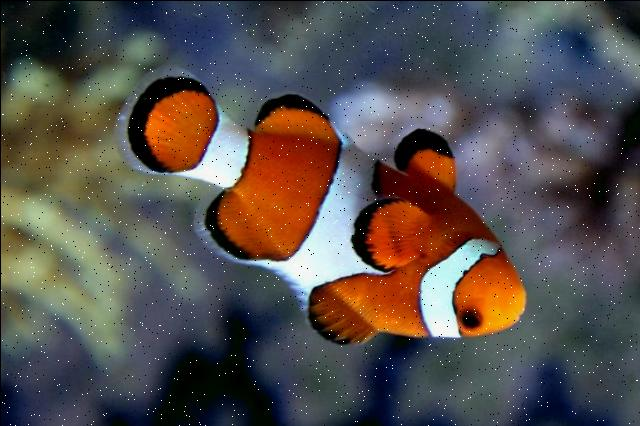Mulut: (494, 280, 538, 342)
Sirip Anal: (242, 88, 354, 162)
Sirip Dada: (344, 191, 434, 279)
Sirip Ekor: (105, 53, 222, 177)
Sirip Perut: (380, 112, 466, 202)
Sirip Punggung: (184, 180, 386, 362)
